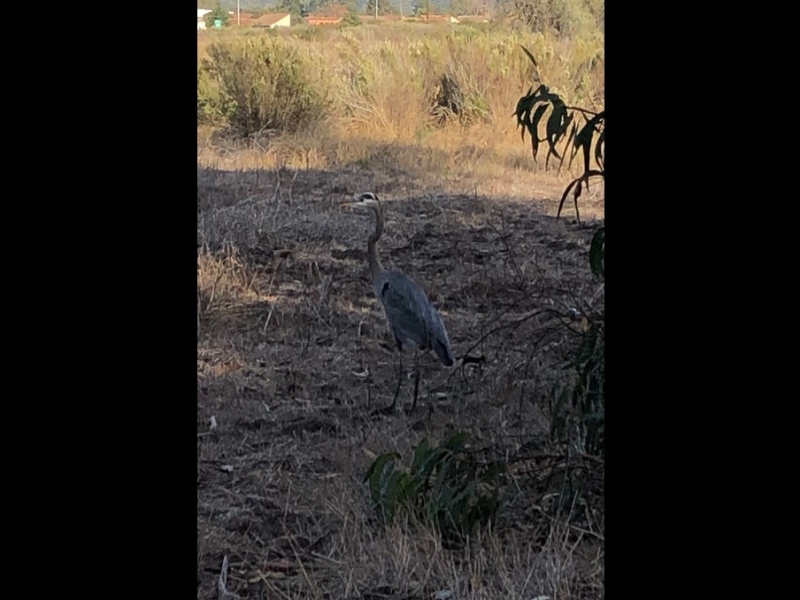heron: (338, 191, 457, 408)
